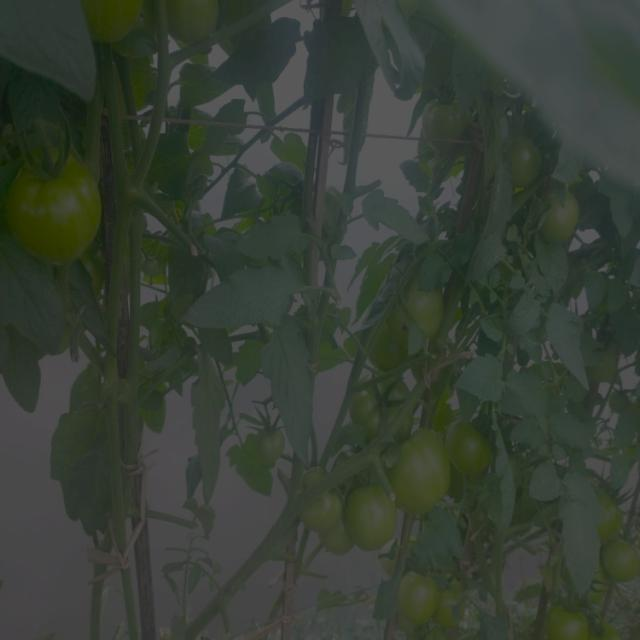tomato: (8, 149, 102, 275), (385, 425, 464, 508), (445, 417, 508, 477), (343, 486, 402, 548), (83, 1, 154, 45), (539, 188, 588, 250), (344, 377, 408, 424), (421, 99, 466, 159), (394, 565, 440, 623), (165, 1, 214, 44), (308, 497, 347, 544), (601, 532, 640, 576), (407, 285, 442, 333), (549, 607, 597, 640), (256, 421, 283, 470), (512, 140, 545, 176), (600, 485, 622, 537), (438, 568, 457, 614)
